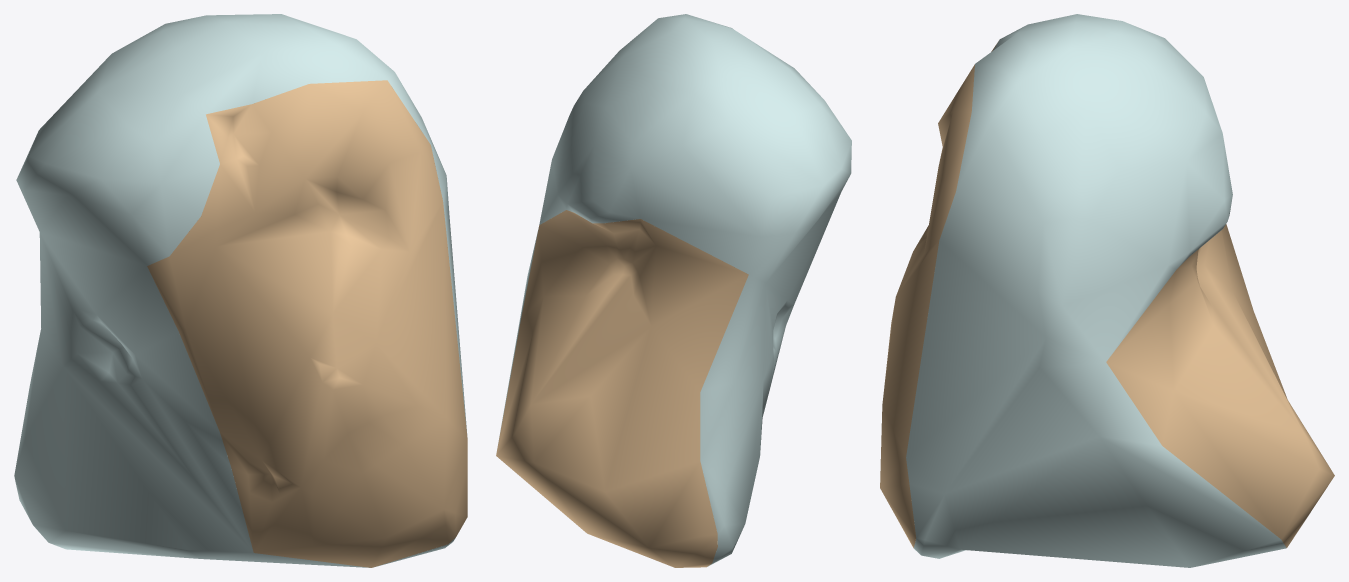
File: Capitate_bone.l_Generated_Mesh_From_X3D.736.glb
3 views of the same model, side by side, from view 1: azimuth 30°, elevation 25°; view 2: azimuth 150°, elevation 25°; view 3: azimuth 270°, elevation 25° (orthographic). The views are drawn at different scales.
Parts seen in each view (by area): view 1: Capitate_bone.l_Generated_Mesh_From_X3D.736; view 2: Capitate_bone.l_Generated_Mesh_From_X3D.736; view 3: Capitate_bone.l_Generated_Mesh_From_X3D.736.
Part boxes in pixels (box(x1,y1,x2,y2)): Capitate_bone.l_Generated_Mesh_From_X3D.736: box(14, 14, 467, 567); Capitate_bone.l_Generated_Mesh_From_X3D.736: box(496, 14, 851, 567); Capitate_bone.l_Generated_Mesh_From_X3D.736: box(880, 14, 1334, 567).
Bounding box in the file's own units: 0.0166 × 0.0234 × 0.018.
